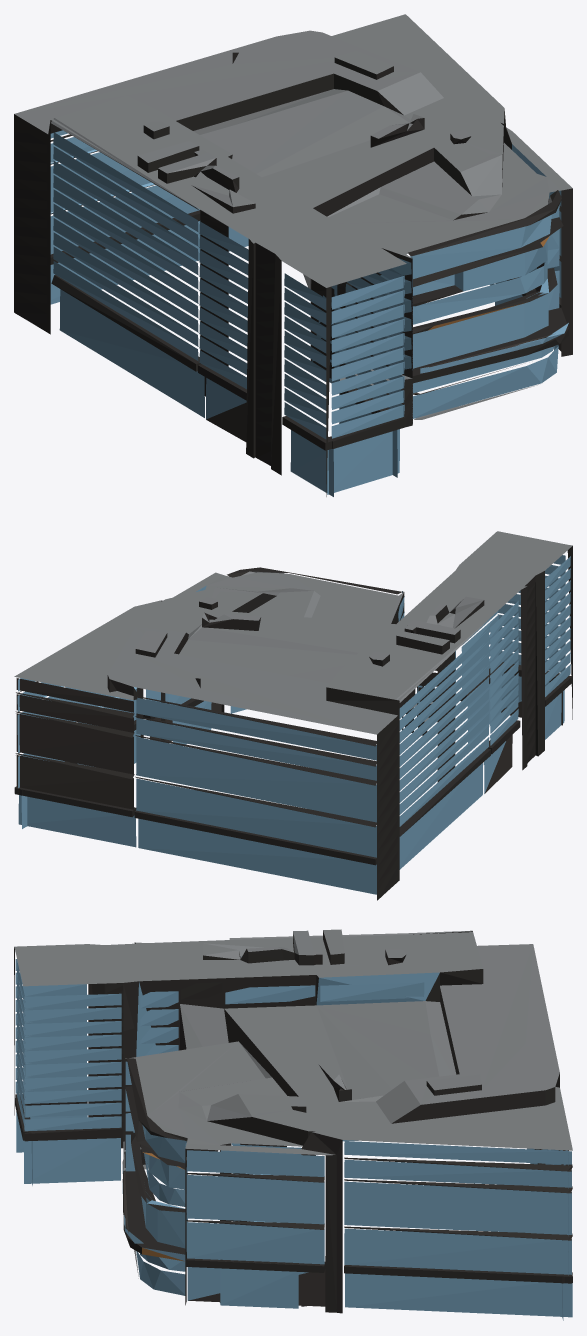
The model's file is booking-hq.lod2.glb.
3 renders of one model, top to bottom at view 1: azimuth 30°, elevation 25°; view 2: azimuth 150°, elevation 25°; view 3: azimuth 270°, elevation 25°, orthographic. The views are drawn at different scales.
Visible parts, largest first — view 1: lod2; view 2: lod2; view 3: lod2.
Boxes of the visible parts, box(x1,y1,x2,y2) form: lod2: box(14, 14, 572, 496); lod2: box(14, 531, 572, 900); lod2: box(14, 929, 572, 1320).
Size of the model in its own units: 96.46 by 50.64 by 119.
